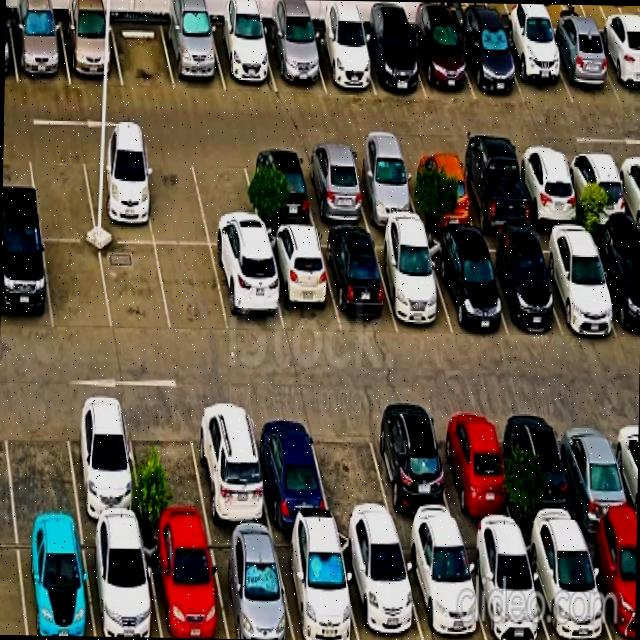empty: (308, 410, 395, 531), (126, 403, 208, 528), (2, 401, 79, 524), (190, 150, 262, 245), (139, 150, 209, 243), (27, 146, 96, 239), (100, 243, 170, 334), (155, 245, 228, 332), (43, 241, 111, 330), (111, 20, 174, 89)
occupied: (366, 409, 459, 532), (431, 409, 517, 533), (188, 403, 271, 529), (248, 406, 331, 527), (554, 409, 636, 531), (502, 408, 582, 532), (64, 400, 143, 525), (522, 531, 611, 640), (207, 530, 294, 640), (460, 533, 549, 640), (398, 533, 486, 640), (337, 532, 423, 640), (272, 532, 358, 640), (143, 529, 227, 638), (81, 526, 161, 637), (534, 233, 619, 334), (16, 527, 94, 636), (477, 237, 561, 334), (425, 238, 507, 335), (372, 235, 452, 334), (264, 233, 340, 334), (319, 233, 397, 331), (81, 148, 154, 243), (211, 247, 284, 333), (582, 529, 636, 640), (455, 153, 531, 231), (402, 152, 475, 229), (243, 151, 315, 229), (589, 232, 640, 341), (545, 31, 621, 104), (348, 151, 420, 226), (298, 151, 369, 227), (500, 31, 573, 104), (513, 152, 583, 226), (563, 151, 632, 226), (456, 27, 524, 101), (0, 234, 52, 330), (408, 26, 475, 99), (358, 29, 425, 97), (161, 21, 225, 91), (210, 24, 276, 91), (309, 29, 375, 95), (59, 19, 122, 85), (9, 18, 70, 84), (263, 28, 325, 91), (594, 33, 640, 105)
